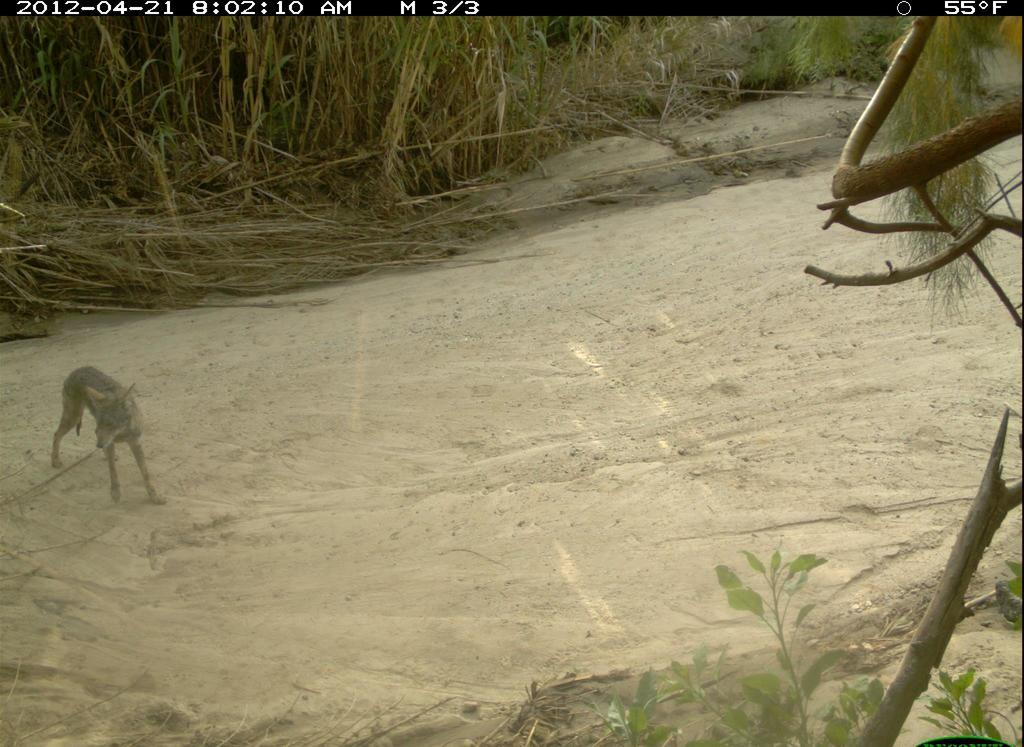coyote: (29, 341, 181, 514)
